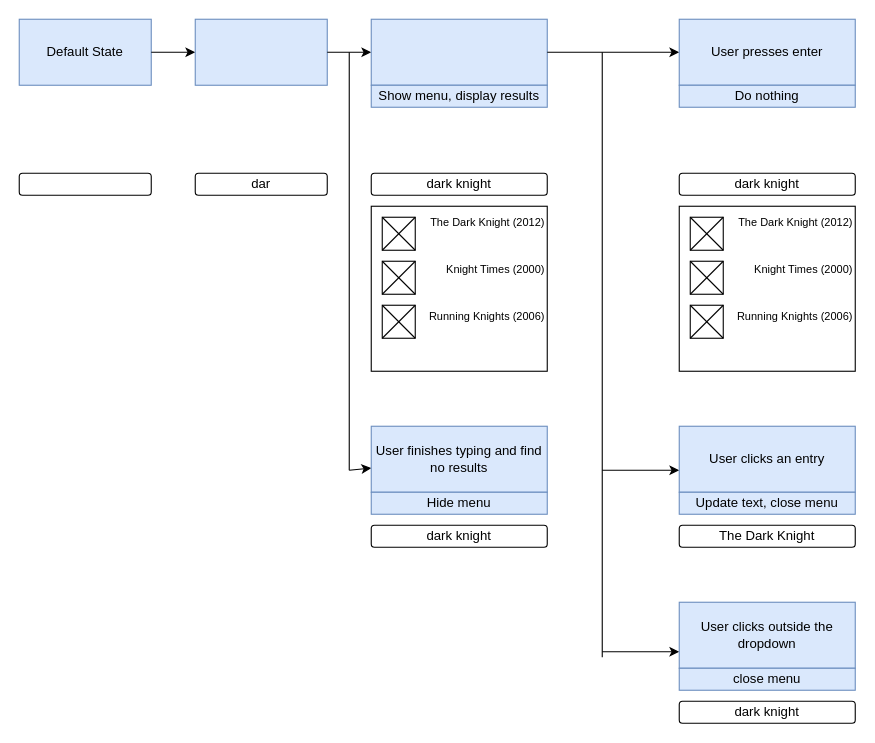
Some shapes in this 875 by 743 pixel diagram are drawn without their labels. Each missing label, with the box of its shape:
User finishes typing and we find matching movies: (370, 18, 547, 85)
User starts typing...: (194, 18, 327, 85)
